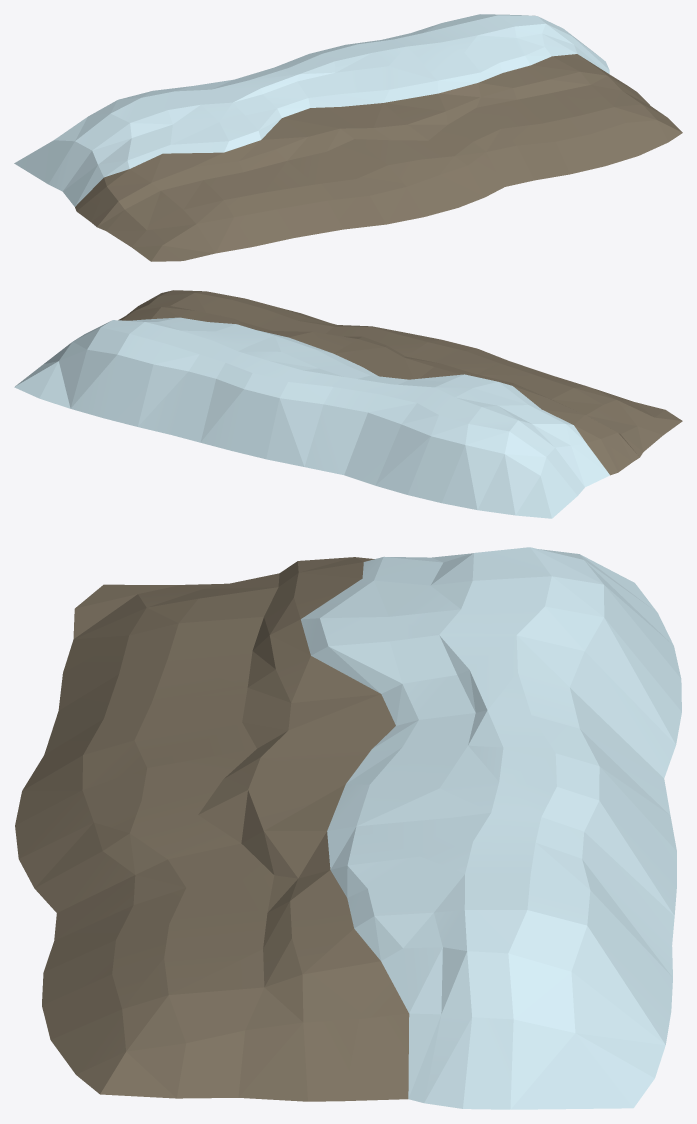
The model's file is Playa01.glb.
3 renders of one model, top to bottom at view 1: azimuth 30°, elevation 25°; view 2: azimuth 150°, elevation 25°; view 3: azimuth 270°, elevation 25°, orthographic. The views are drawn at different scales.
Visible parts, largest first — view 1: SM_Env_Beach_01_Snow_3; view 2: SM_Env_Beach_01_Snow_3; view 3: SM_Env_Beach_01_Snow_3.
Boxes of the visible parts, x1=… form: SM_Env_Beach_01_Snow_3: x1=14, y1=14, x2=682, y2=261; SM_Env_Beach_01_Snow_3: x1=14, y1=290, x2=682, y2=518; SM_Env_Beach_01_Snow_3: x1=15, y1=547, x2=681, y2=1109.
Size of the model in its own units: 19.44 by 1.92 by 10.34.
Materials: 1 (1 with a texture image).
